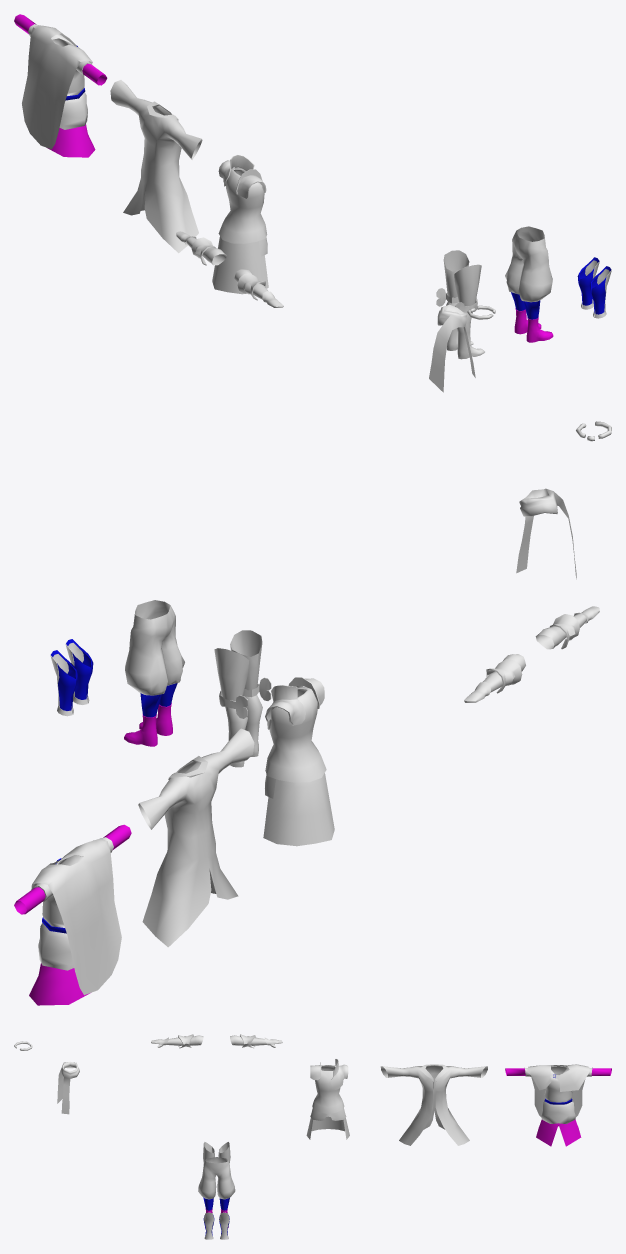
The model's file is armour.fbx.
3 renders of one model, top to bottom at view 1: azimuth 30°, elevation 25°; view 2: azimuth 150°, elevation 25°; view 3: azimuth 270°, elevation 25°, orthographic. The views are drawn at different scales.
Visible parts, largest first — view 1: Lev-Cloak, Örvar Oddr-Cape, Örvar Oddr-pants, Knight-Chest, Knight-Legs, Örvar Oddr-mail, Knight-Cape, Lev-Scarf, Örvar Oddr-Cloth, Knight-Arms, Achilles-GreavesR, Achilles-GreavesL; view 2: Lev-Cloak, Örvar Oddr-Cape, Örvar Oddr-pants, Knight-Cape, Knight-Chest, Knight-Legs, Örvar Oddr-mail, Örvar Oddr-Cloth, Lev-Scarf, Knight-Arms, Achilles-GreavesL, Achilles-GreavesR (+1 smaller); view 3: Lev-Cloak, Örvar Oddr-mail, Örvar Oddr-Cape, Örvar Oddr-pants, Knight-Chest, Örvar Oddr-Cloth, Knight-Arms, Lev-Scarf, Knight-Cape, Knight-Legs, Knight-ShoulderL.
Boxes of the visible parts, left/top/right/bottom form: Lev-Cloak: left=110, top=80, right=202, bottom=253; Örvar Oddr-Cape: left=22, top=25, right=92, bottom=149; Örvar Oddr-pants: left=505, top=226, right=553, bottom=342; Knight-Chest: left=218, top=168, right=267, bottom=243; Knight-Legs: left=443, top=250, right=484, bottom=359; Örvar Oddr-mail: left=14, top=14, right=107, bottom=129; Knight-Cape: left=212, top=236, right=268, bottom=294; Lev-Scarf: left=429, top=304, right=475, bottom=392; Örvar Oddr-Cloth: left=46, top=124, right=95, bottom=157; Knight-Arms: left=176, top=231, right=283, bottom=307; Achilles-GreavesR: left=590, top=266, right=611, bottom=318; Achilles-GreavesL: left=577, top=257, right=599, bottom=309; Lev-Cloak: left=138, top=728, right=254, bottom=947; Örvar Oddr-Cape: left=31, top=838, right=121, bottom=995; Örvar Oddr-pants: left=124, top=600, right=184, bottom=746; Knight-Cape: left=263, top=773, right=334, bottom=846; Knight-Chest: left=265, top=687, right=326, bottom=782; Knight-Legs: left=214, top=630, right=262, bottom=767; Örvar Oddr-mail: left=14, top=824, right=131, bottom=970; Örvar Oddr-Cloth: left=29, top=963, right=90, bottom=1005; Lev-Scarf: left=516, top=488, right=576, bottom=579; Knight-Arms: left=464, top=606, right=599, bottom=702; Achilles-GreavesL: left=50, top=650, right=77, bottom=716; Achilles-GreavesR: left=65, top=639, right=93, bottom=704; Lev-Cloak: left=380, top=1064, right=487, bottom=1145; Örvar Oddr-mail: left=505, top=1065, right=611, bottom=1123; Örvar Oddr-Cape: left=527, top=1064, right=589, bottom=1117; Örvar Oddr-pants: left=198, top=1157, right=235, bottom=1227; Knight-Chest: left=312, top=1065, right=344, bottom=1114; Örvar Oddr-Cloth: left=536, top=1119, right=581, bottom=1146; Knight-Arms: left=151, top=1035, right=282, bottom=1047; Lev-Scarf: left=57, top=1061, right=79, bottom=1114; Knight-Cape: left=306, top=1116, right=349, bottom=1139; Knight-Legs: left=203, top=1142, right=230, bottom=1163; Knight-ShoulderL: left=331, top=1059, right=348, bottom=1089.
Bounding box in the file's own units: 430 × 196 × 902.
